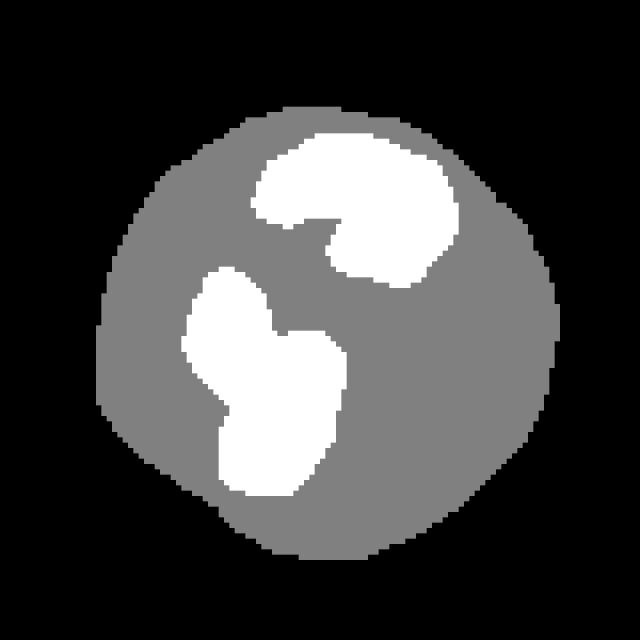WBC: (85, 90, 576, 570)
